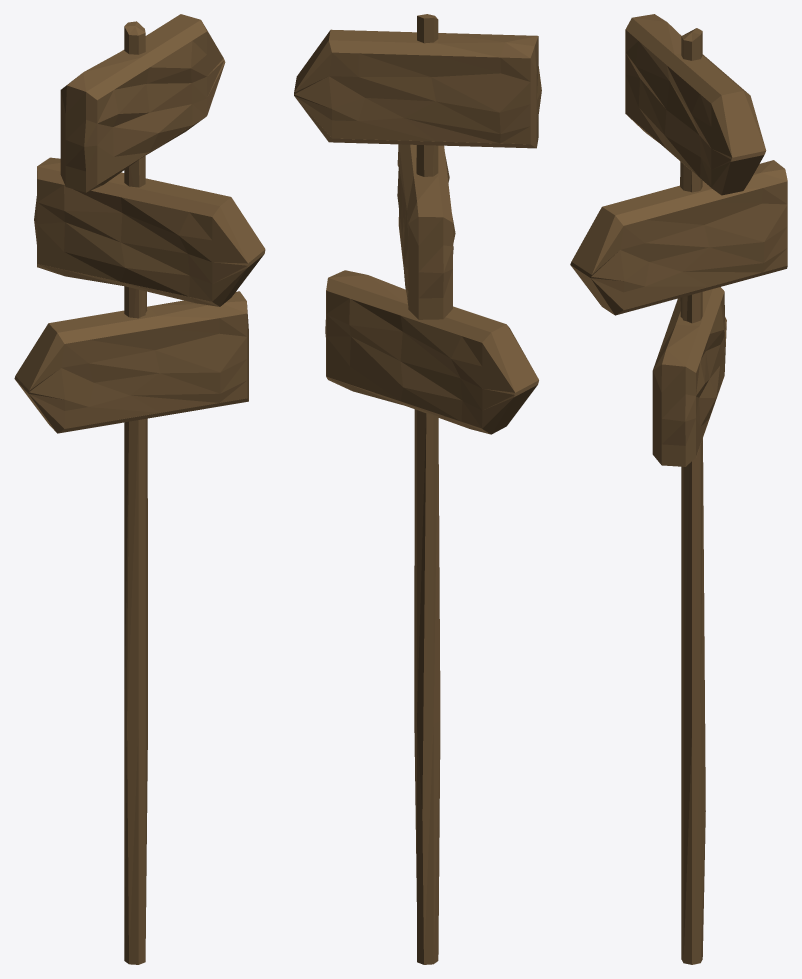
File: HolzschildRichtungMehr.fbx
3 views of the same model, side by side, from view 1: azimuth 30°, elevation 25°; view 2: azimuth 150°, elevation 25°; view 3: azimuth 270°, elevation 25° (orthographic).
Visible parts, largest first — view 1: Würfel_1, Würfel_2, Würfel, Stiel; view 2: Würfel, Würfel_1, Stiel, Würfel_2; view 3: Würfel_2, Würfel, Stiel, Würfel_1.
Boxes of the visible parts, box(x1,y1,x2,y2) form: Würfel_1: box(14, 291, 248, 433); Würfel_2: box(34, 157, 265, 306); Würfel: box(60, 14, 225, 192); Stiel: box(124, 21, 147, 964); Würfel: box(294, 29, 541, 148); Würfel_1: box(325, 270, 538, 434); Stiel: box(414, 14, 440, 964); Würfel_2: box(397, 144, 455, 319); Würfel_2: box(570, 160, 787, 315); Würfel: box(625, 14, 766, 195); Stiel: box(680, 28, 705, 964); Würfel_1: box(652, 287, 726, 466).
Size of the model in its own units: 128 by 527 by 112.
